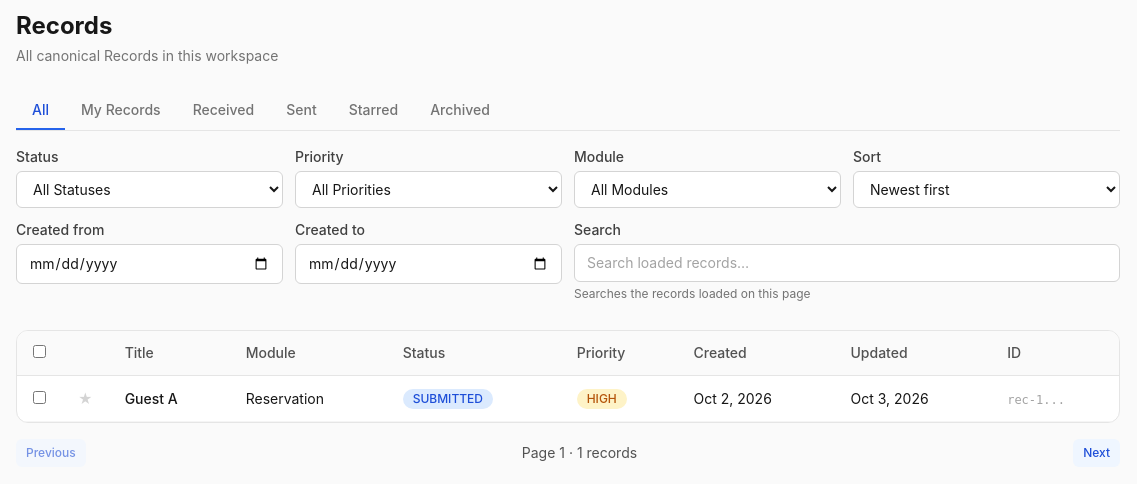
global Record List › paginates forward with the cursor and back to page 1
Check: the link "Guest A" is shown, box [125,390,178,406]
Click the button "Next" at coordinates (1097, 453), box [1073,439,1120,467]
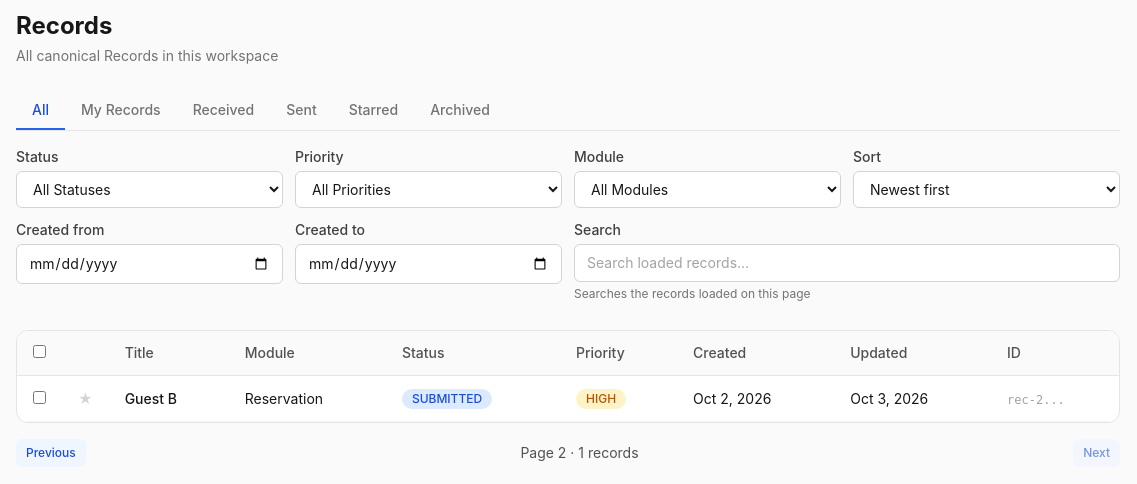
Check: the link "Guest B" is shown, box [125,390,177,406]
Check: the text "Page 2 · 1 records" is shown, box [520,443,639,463]
Click the button "Previous" at coordinates (51, 453), box [16,439,86,467]
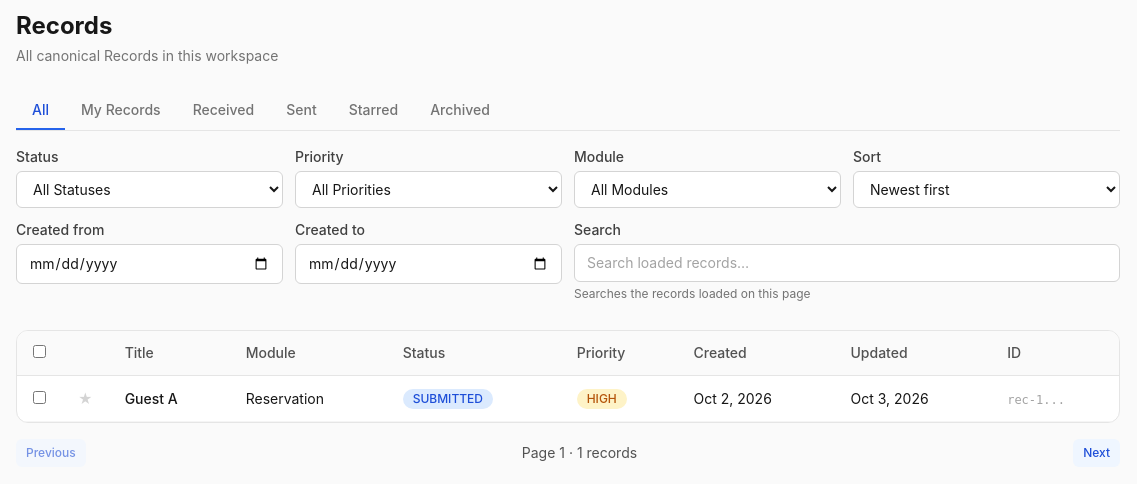
Check: the link "Guest A" is shown, box [125,390,178,406]
Check: the text "Page 1 · 1 records" is shown, box [522,443,637,463]
